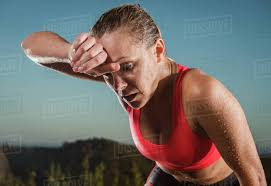white_female: (89, 30, 177, 122)
